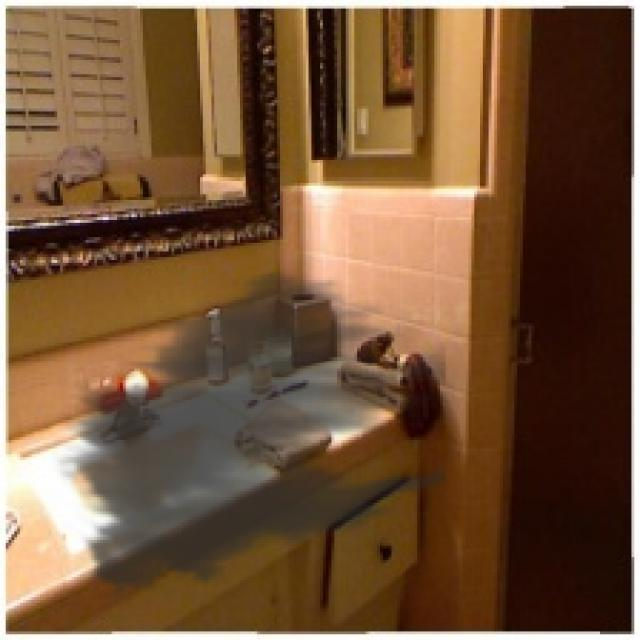Smoke: (51, 260, 446, 609)
